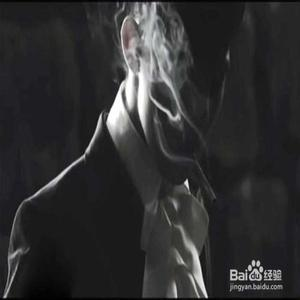cigarette: (190, 154, 218, 206)
